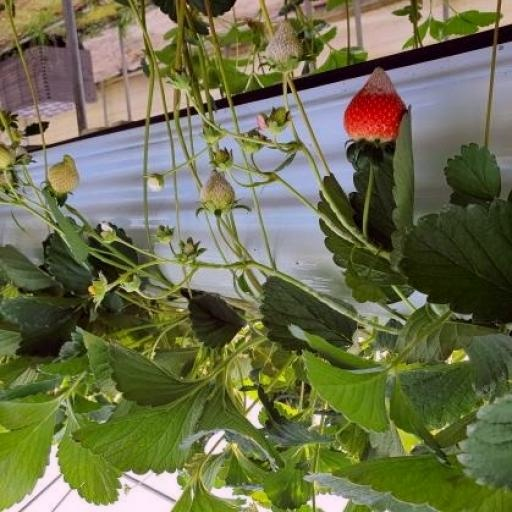Powdery Mildew Fruit: (342, 367, 407, 445), (263, 440, 306, 495), (199, 297, 234, 340)
